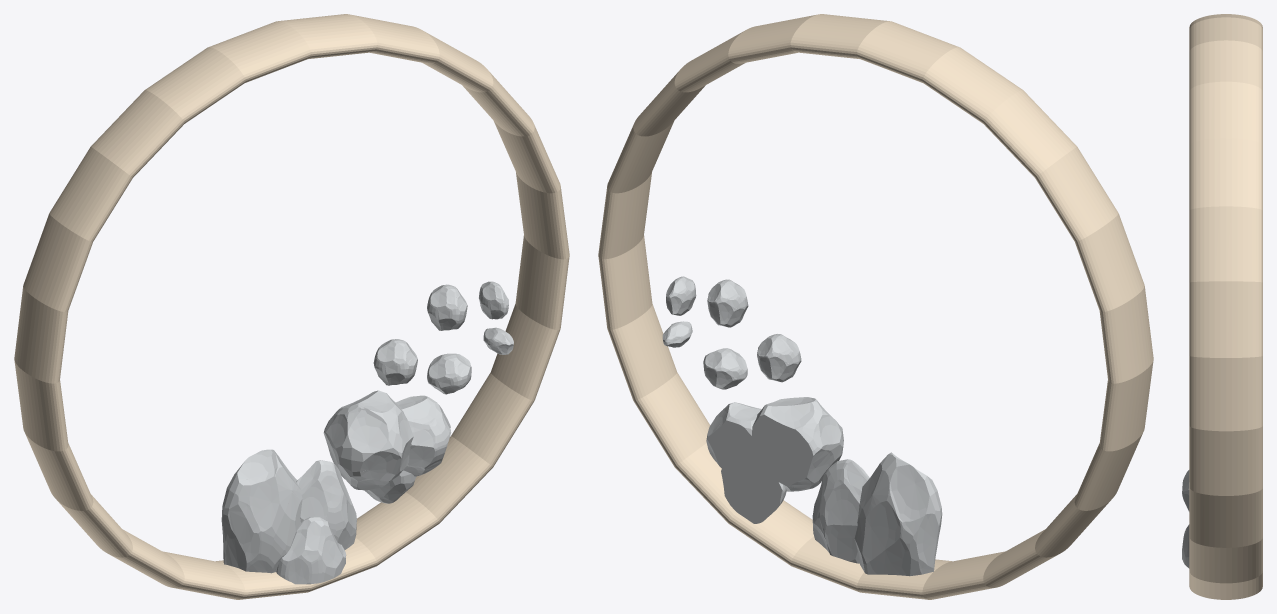
Rendered from icon_warn2.fbx.
The picture shows the model from 3 angles, left to right: view 1: azimuth 30°, elevation 25°; view 2: azimuth 150°, elevation 25°; view 3: azimuth 270°, elevation 25°; orthographic projection. The views are drawn at different scales.
Visible parts, largest first — view 1: obj_0.003; view 2: obj_0.003; view 3: obj_0.003.
Boxes of the visible parts, x1,y1,x2,y2 form: obj_0.003: [14, 14, 569, 599]; obj_0.003: [598, 14, 1153, 599]; obj_0.003: [1182, 14, 1262, 599].
Bounding box in the file's own units: 4000 × 4000 × 550.
